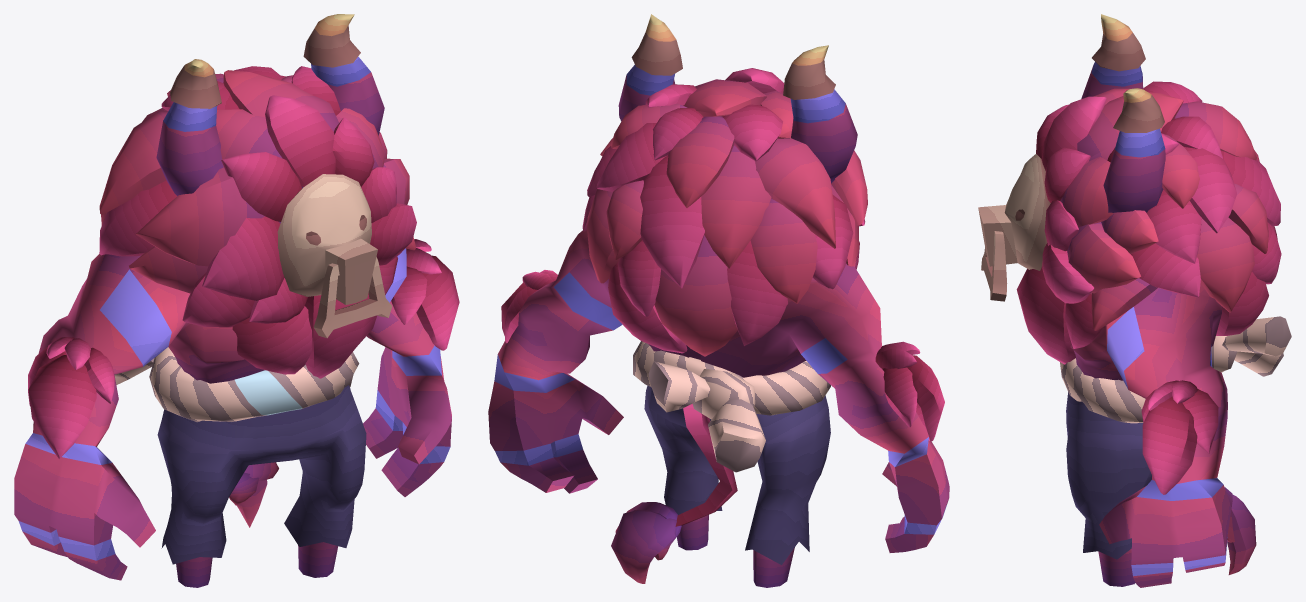
File: Monster Hunter.fbx
The picture shows the model from 3 angles, left to right: view 1: azimuth 30°, elevation 25°; view 2: azimuth 150°, elevation 25°; view 3: azimuth 270°, elevation 25°; orthographic projection. The views are drawn at different scales.
Visible parts, largest first — view 1: Monster_Hunter_Mesh; view 2: Monster_Hunter_Mesh; view 3: Monster_Hunter_Mesh.
Boxes of the visible parts, x1,y1,x2,y2 form: Monster_Hunter_Mesh: [14, 14, 459, 587]; Monster_Hunter_Mesh: [488, 14, 949, 587]; Monster_Hunter_Mesh: [978, 14, 1291, 587].
Size of the model in its own units: 3.09 by 3.58 by 2.01.
Materials: 1 (1 with a texture image).
